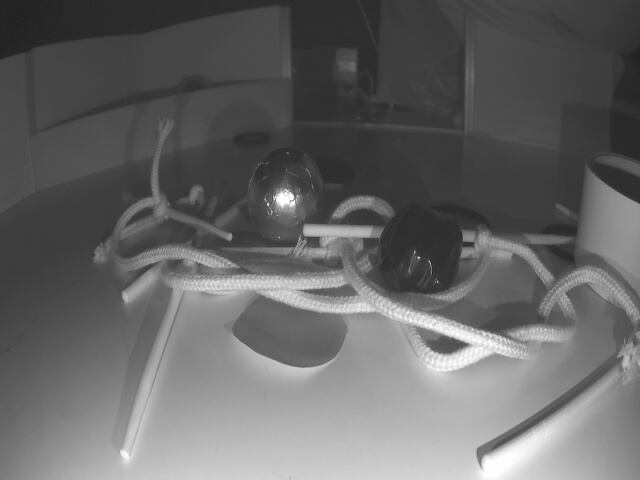Dead: (379, 201, 460, 296)
Live: (245, 143, 329, 248)
Point: (38, 78, 290, 191)
